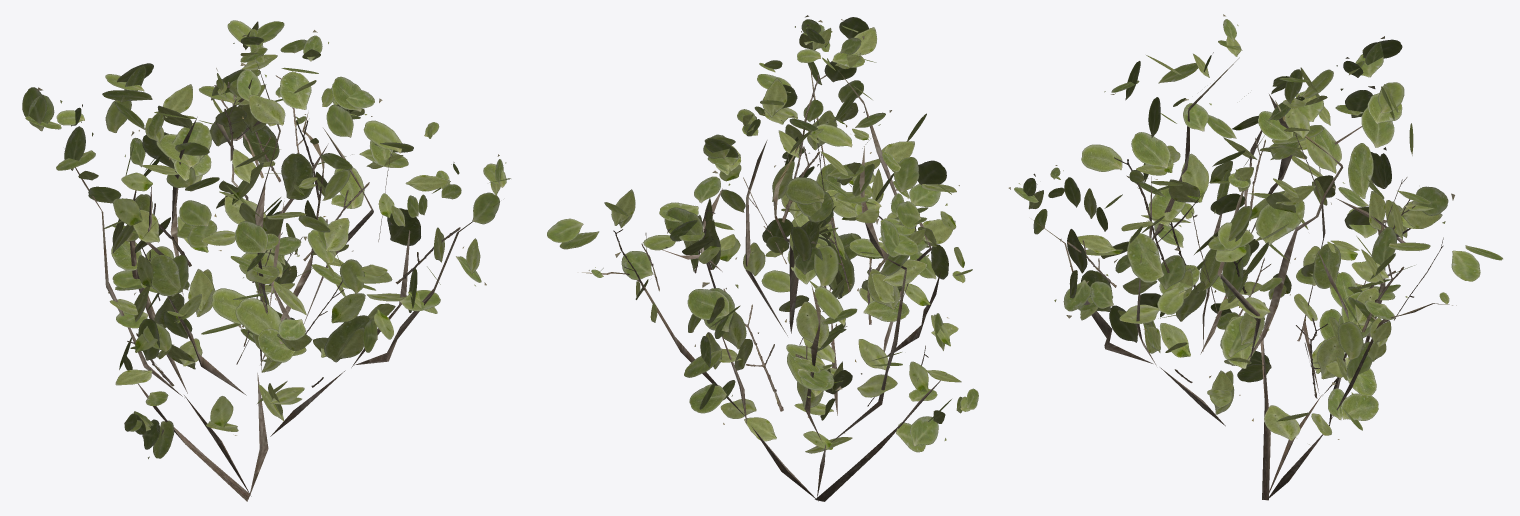
Rendered from bush_green_c.glb.
The picture shows the model from 3 angles, left to right: view 1: azimuth 30°, elevation 25°; view 2: azimuth 150°, elevation 25°; view 3: azimuth 270°, elevation 25°; orthographic projection. The views are drawn at different scales.
Visible parts, largest first — view 1: bush_green_c; view 2: bush_green_c; view 3: bush_green_c.
Part boxes in pixels (bbox=[...]): bush_green_c: bbox=[22, 20, 510, 501]; bush_green_c: bbox=[547, 15, 978, 501]; bush_green_c: bbox=[1008, 14, 1502, 500].
Size of the model in its own units: 1.2 by 1.59 by 1.51.
2 materials, 2 textured.
